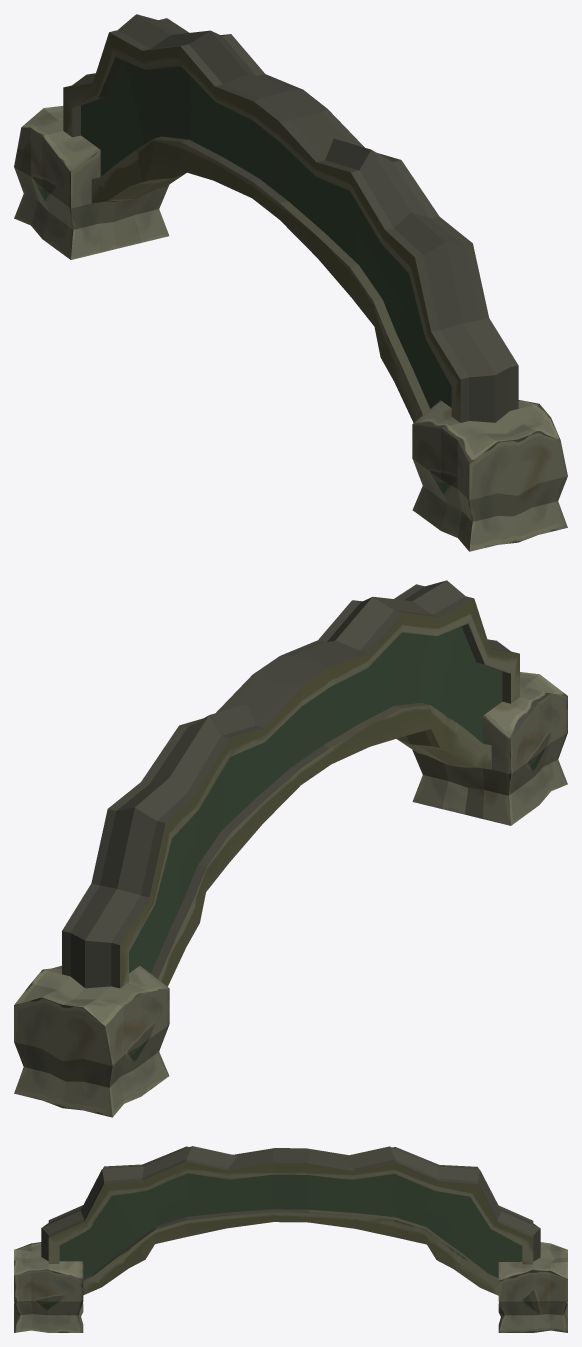
Rendered from arch.fbx.
3 views of the same model, one above another, from view 1: azimuth 30°, elevation 25°; view 2: azimuth 150°, elevation 25°; view 3: azimuth 270°, elevation 25° (orthographic). The views are drawn at different scales.
Visible parts, largest first — view 1: Cube.001; view 2: Cube.001; view 3: Cube.001.
Boxes of the visible parts, left/top/right/bottom form: Cube.001: left=14, top=14, right=567, bottom=551; Cube.001: left=14, top=580, right=567, bottom=1117; Cube.001: left=14, top=1146, right=567, bottom=1332.
Size of the model in its own units: 200 by 555 by 1600.
Materials: 1 (1 with a texture image).
